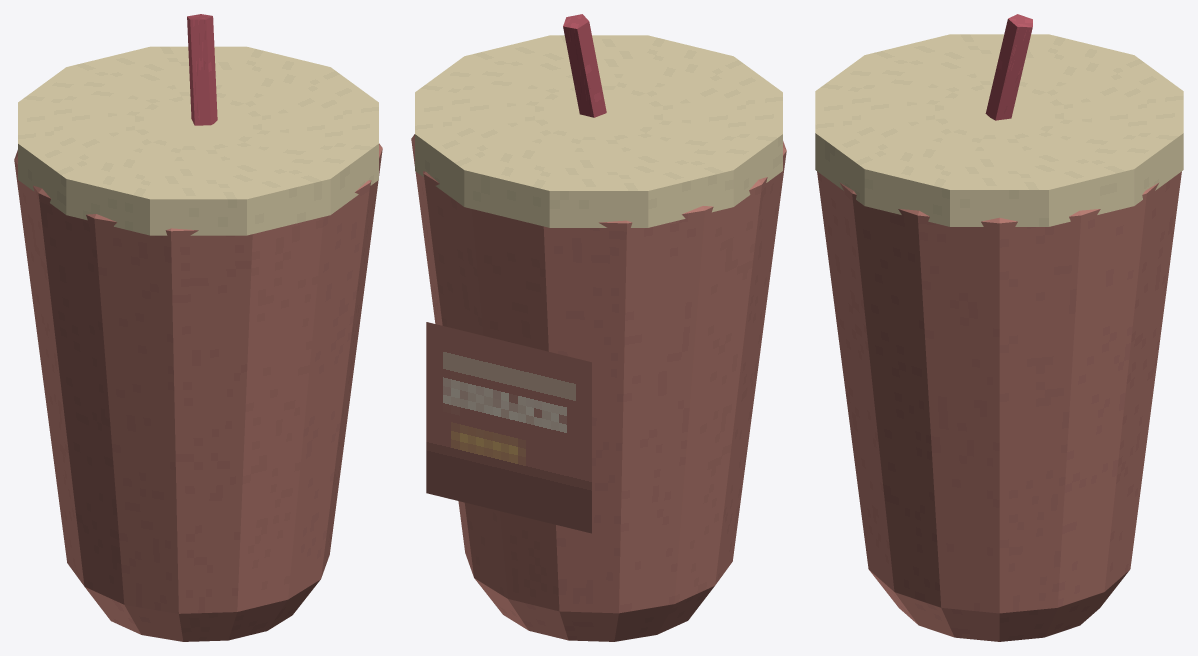
The model's file is milkshake_fastfood.glb.
3 renders of one model, left to right at view 1: azimuth 30°, elevation 25°; view 2: azimuth 150°, elevation 25°; view 3: azimuth 270°, elevation 25°, orthographic. The views are drawn at different scales.
Parts seen in each view (by area): view 1: block_printed fast food paper cup, block_opaque snap-on lid, block_straight striped straw 0; view 2: block_printed fast food paper cup, block_opaque snap-on lid, block_takeout cup print, block_straight striped straw 0; view 3: block_printed fast food paper cup, block_opaque snap-on lid, block_straight striped straw 0.
Boxes of the visible parts, left/top/right/bottom form: block_printed fast food paper cup: left=14, top=143, right=382, bottom=641; block_opaque snap-on lid: left=18, top=46, right=378, bottom=235; block_straight striped straw 0: left=187, top=14, right=217, bottom=125; block_printed fast food paper cup: left=411, top=134, right=786, bottom=641; block_opaque snap-on lid: left=415, top=35, right=782, bottom=227; block_takeout cup print: left=426, top=322, right=591, bottom=533; block_straight striped straw 0: left=563, top=14, right=606, bottom=117; block_printed fast food paper cup: left=817, top=171, right=1181, bottom=641; block_opaque snap-on lid: left=815, top=34, right=1183, bottom=226; block_straight striped straw 0: left=985, top=14, right=1032, bottom=120.
Size of the model in its own units: 0.0753 by 0.129 by 0.0735.
Materials: 1 (1 with a texture image).
